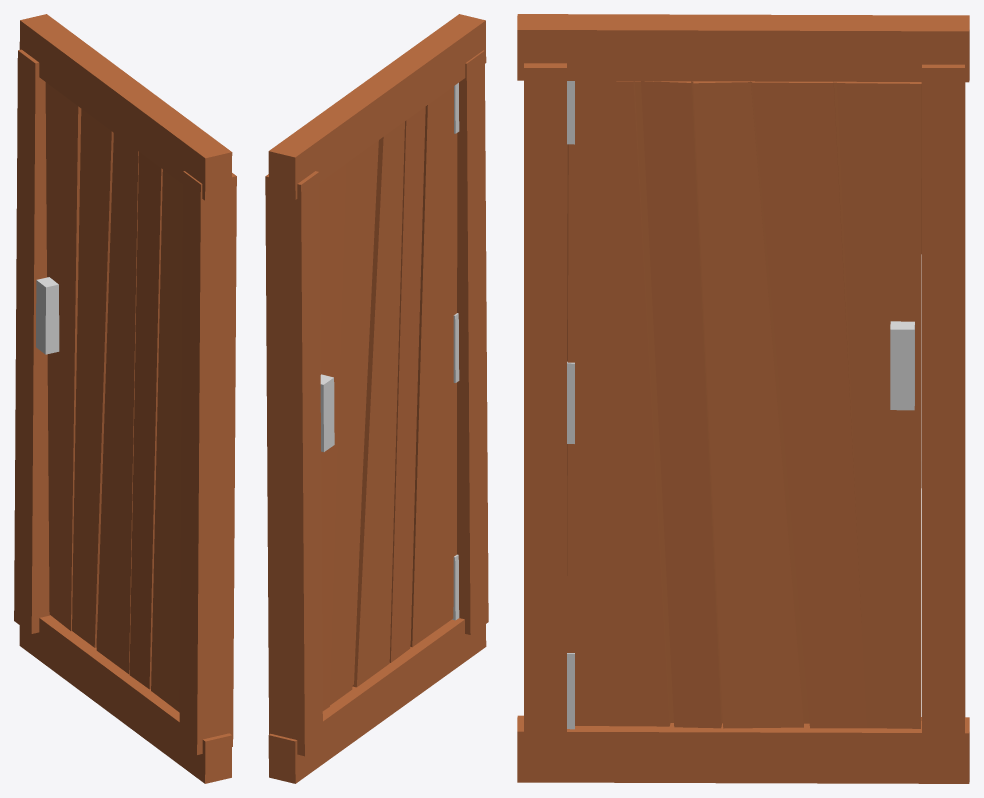
3 renders of one model, left to right at view 1: azimuth 30°, elevation 25°; view 2: azimuth 150°, elevation 25°; view 3: azimuth 270°, elevation 25°, orthographic. The views are drawn at different scales.
Visible parts, largest first — view 1: Door Frame.001; view 2: Door Frame.001; view 3: Door Frame.001.
Part boxes in pixels (x1,y1,x2,y2): Door Frame.001: [14, 14, 236, 783]; Door Frame.001: [265, 14, 488, 783]; Door Frame.001: [517, 14, 969, 783].
Size of the model in its own units: 9.27 by 119 by 64.57.
